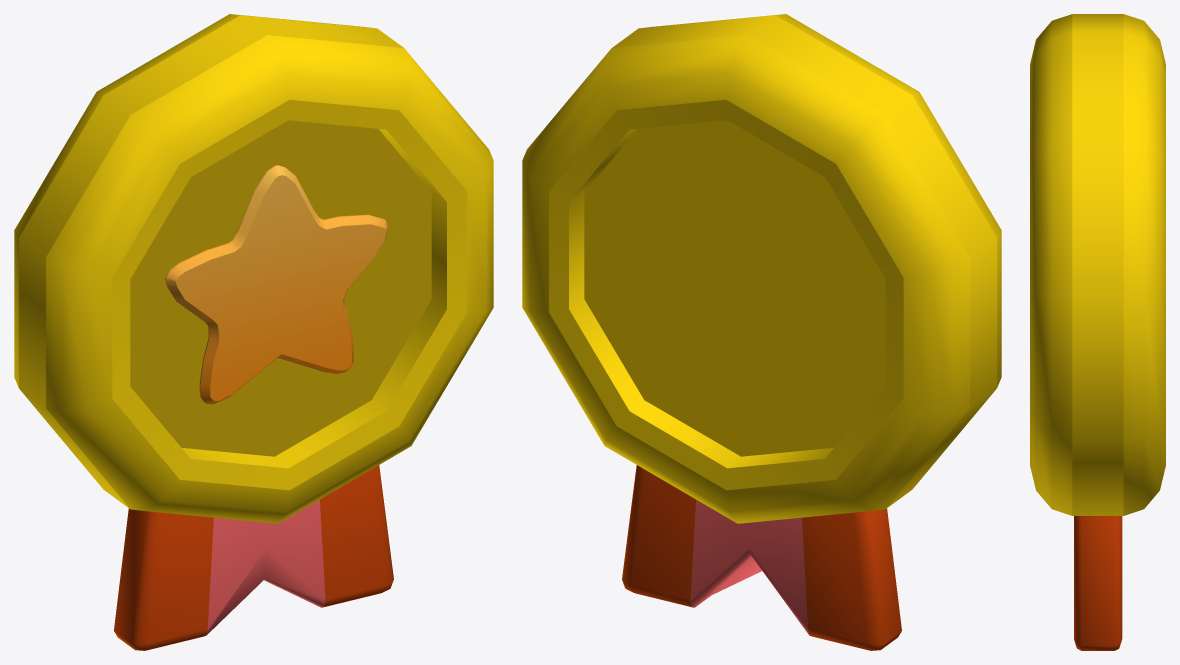
File: Medal_9.fbx
3 views of the same model, side by side, from view 1: azimuth 30°, elevation 25°; view 2: azimuth 150°, elevation 25°; view 3: azimuth 270°, elevation 25° (orthographic). The views are drawn at different scales.
Visible parts, largest first — view 1: Medal_9; view 2: Medal_9; view 3: Medal_9.
Boxes of the visible parts, x1,y1,x2,y2 form: Medal_9: (14, 14, 493, 650); Medal_9: (522, 14, 1001, 650); Medal_9: (1030, 14, 1165, 650).
Bounding box in the file's own units: 0.1773 × 0.2259 × 0.0495.
